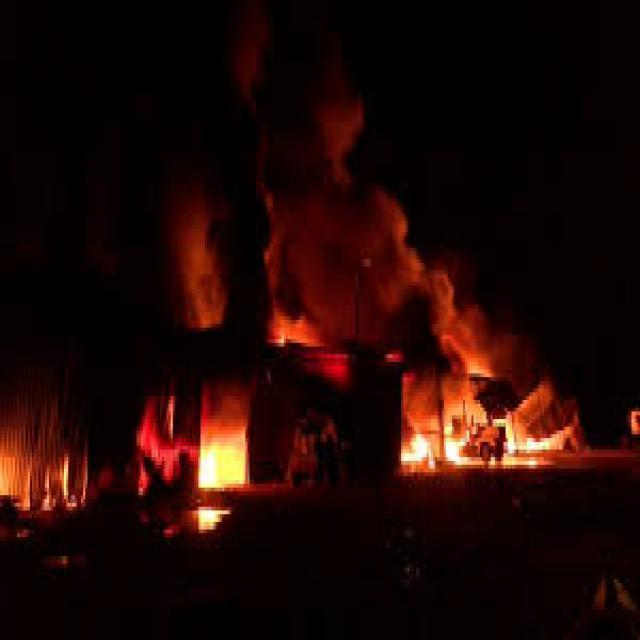Fire: (405, 372, 561, 468), (306, 205, 399, 347), (0, 408, 95, 532), (122, 393, 183, 497), (202, 392, 252, 493), (404, 438, 430, 466)
Smoke: (153, 66, 396, 316)
